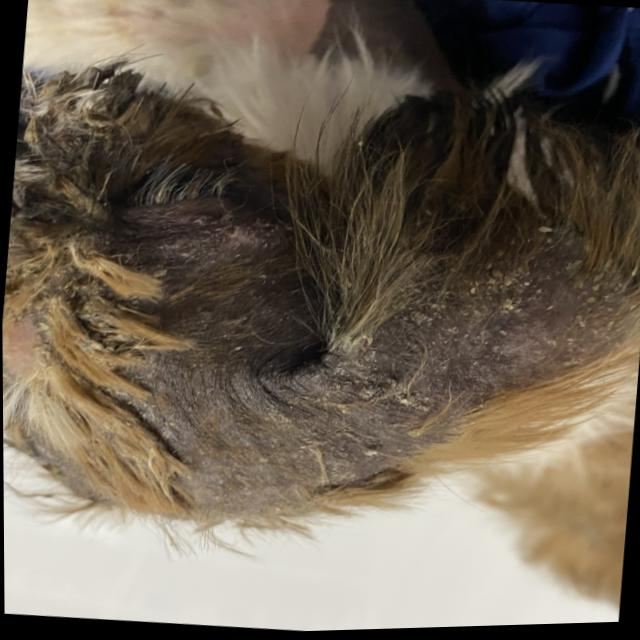demodicosis: (314, 176, 635, 486), (96, 159, 325, 521), (2, 259, 82, 403)
